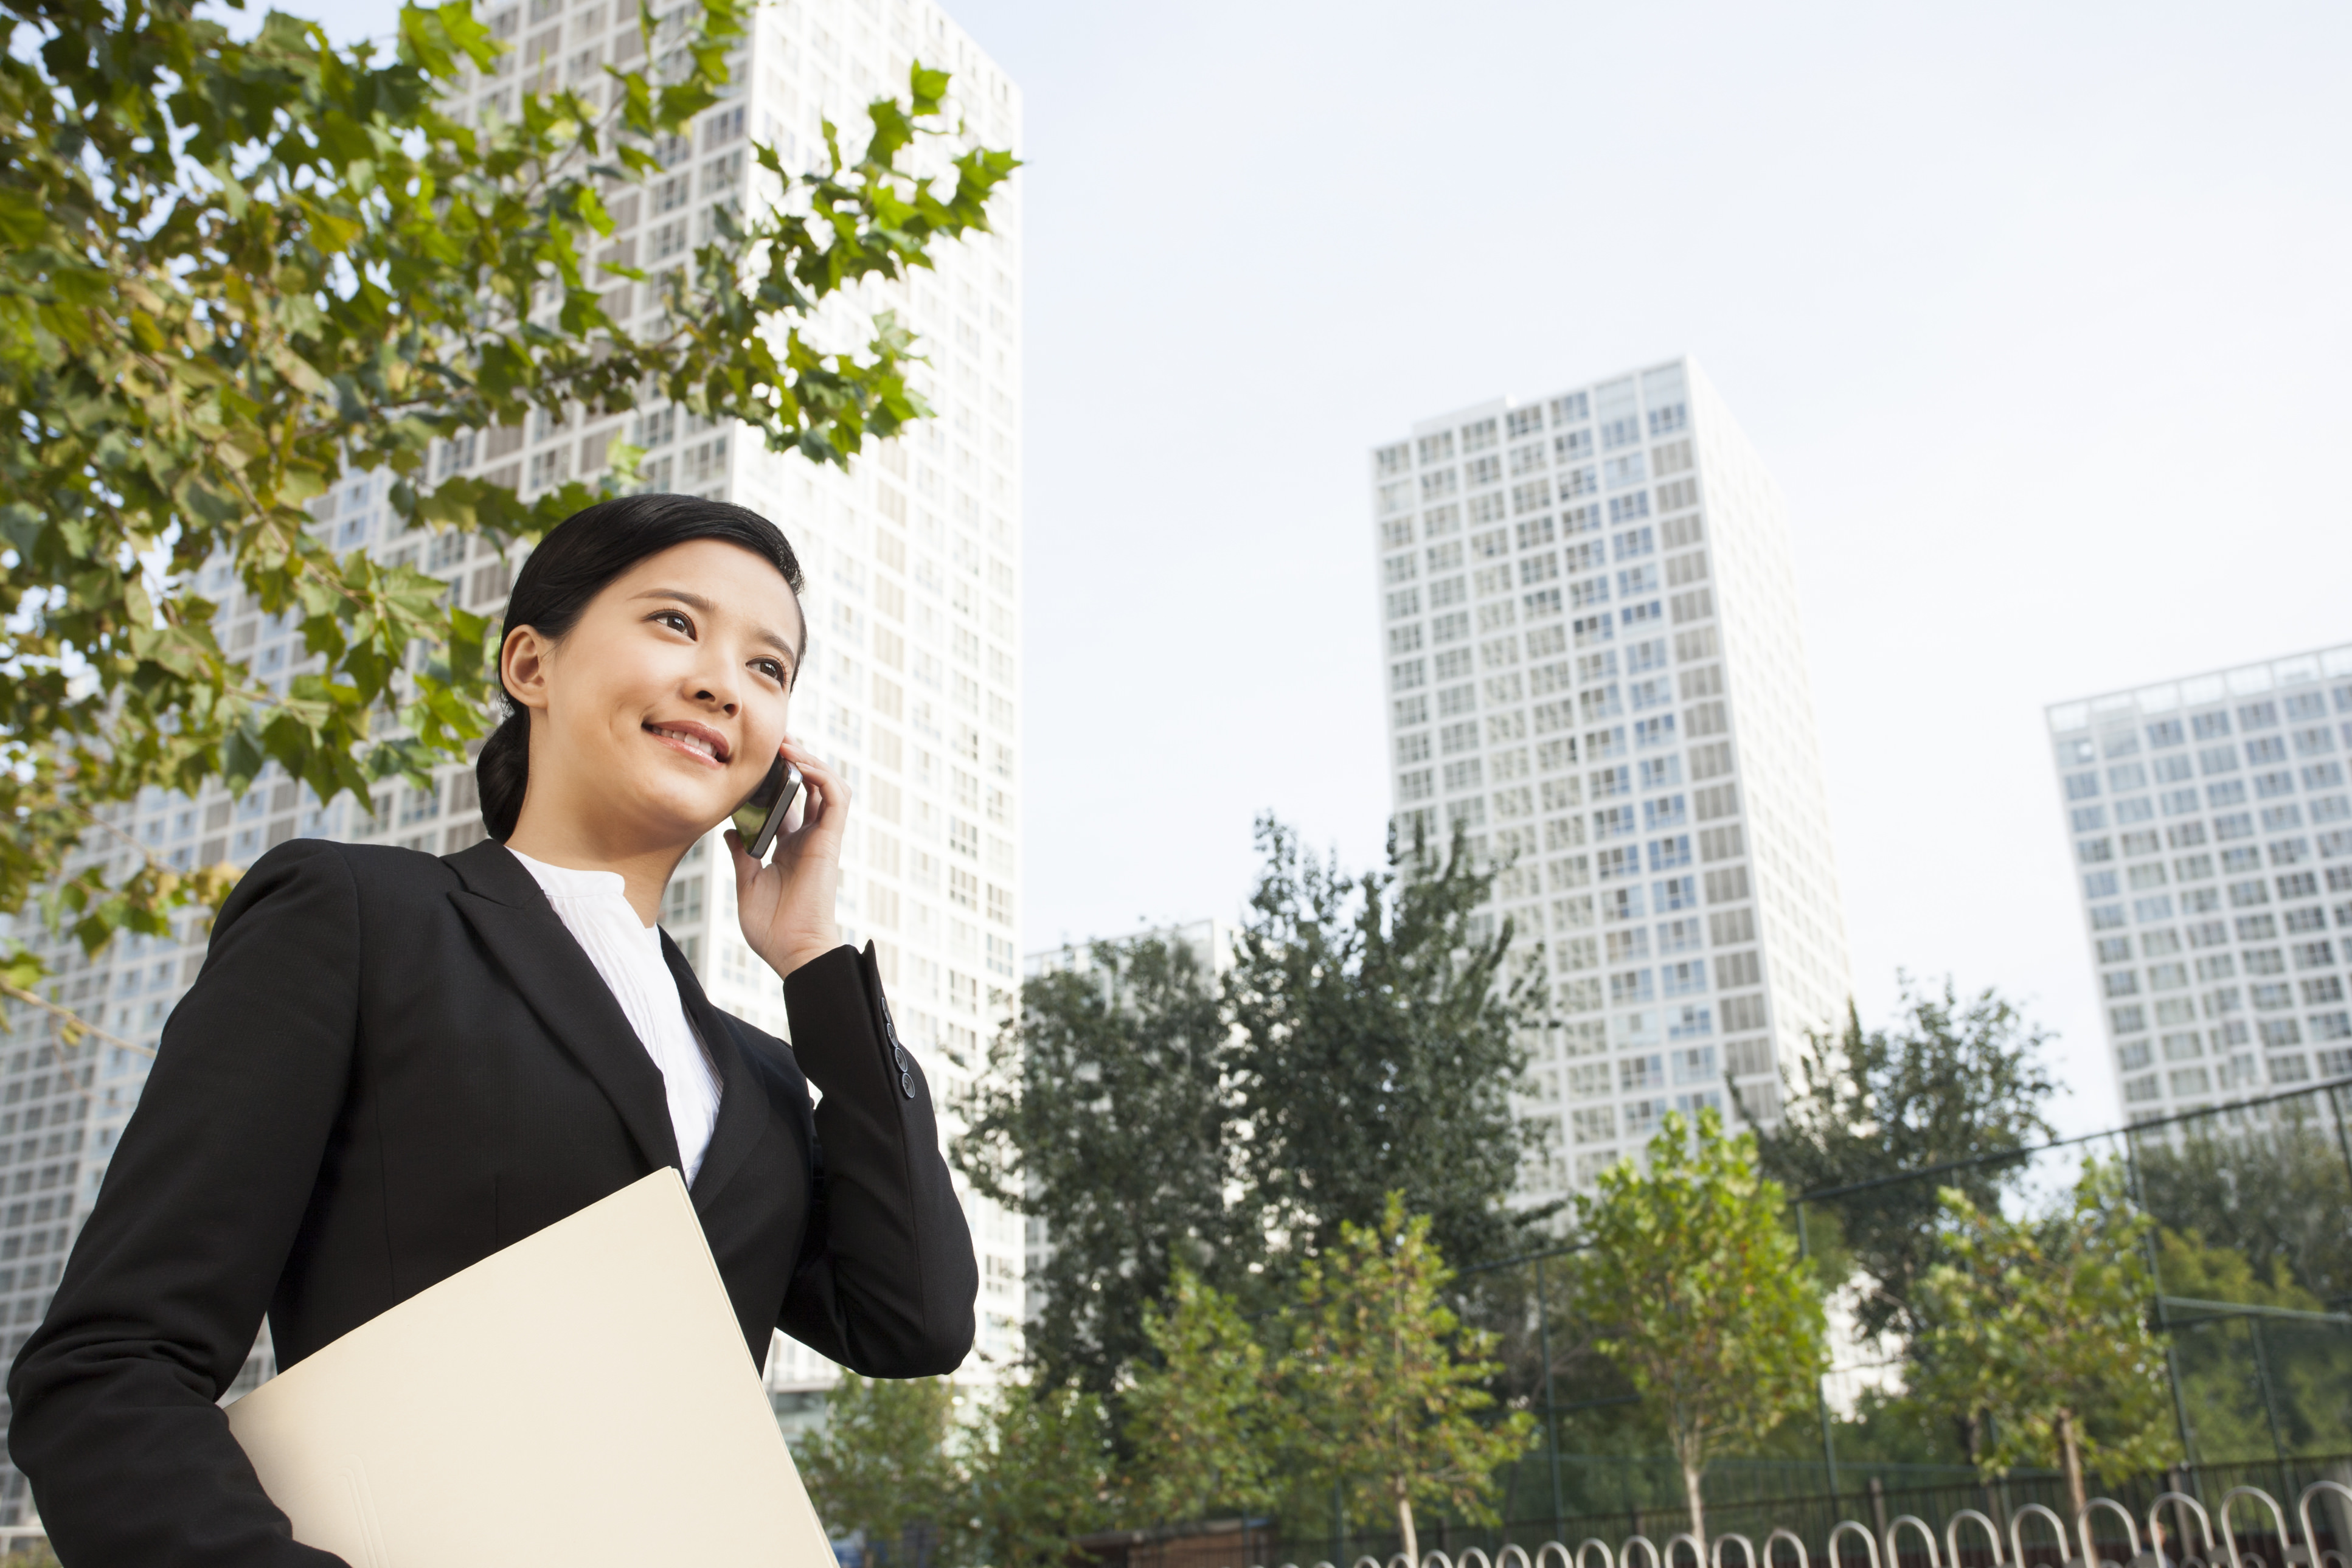phone: (714, 724, 844, 873)
talk: (598, 588, 873, 929)
